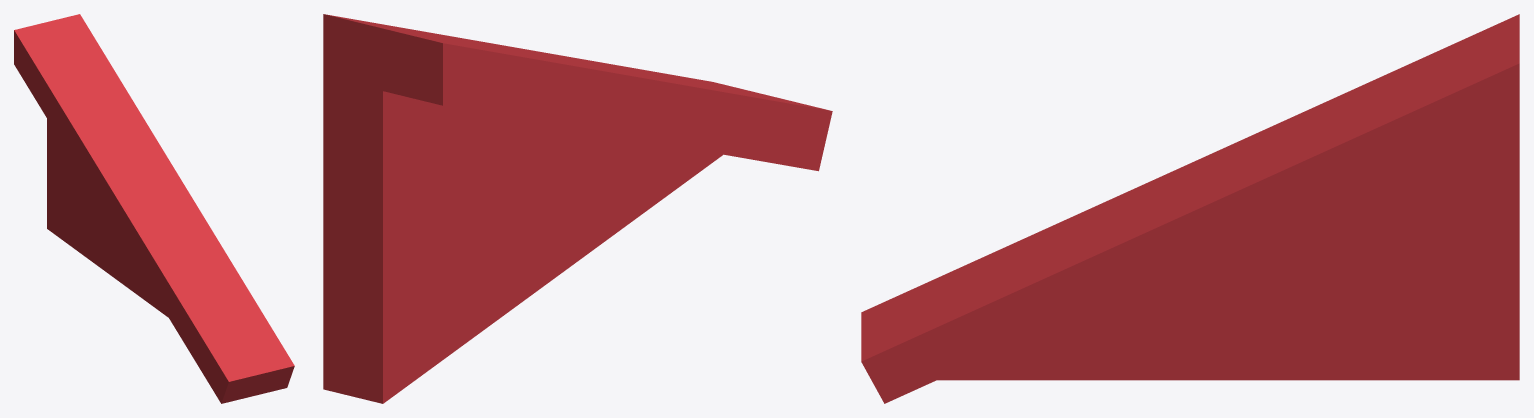
File: roof_small_gable_roof.glb
The picture shows the model from 3 angles, left to right: view 1: azimuth 30°, elevation 25°; view 2: azimuth 150°, elevation 25°; view 3: azimuth 270°, elevation 25°; orthographic projection. The views are drawn at different scales.
Visible parts, largest first — view 1: roof_small_gable_roof; view 2: roof_small_gable_roof; view 3: roof_small_gable_roof.
Boxes of the visible parts, x1,y1,x2,y2 form: roof_small_gable_roof: [14, 14, 294, 403]; roof_small_gable_roof: [323, 14, 832, 403]; roof_small_gable_roof: [861, 14, 1519, 403].
Size of the model in its own units: 0.2 by 0.6447 by 1.13.
